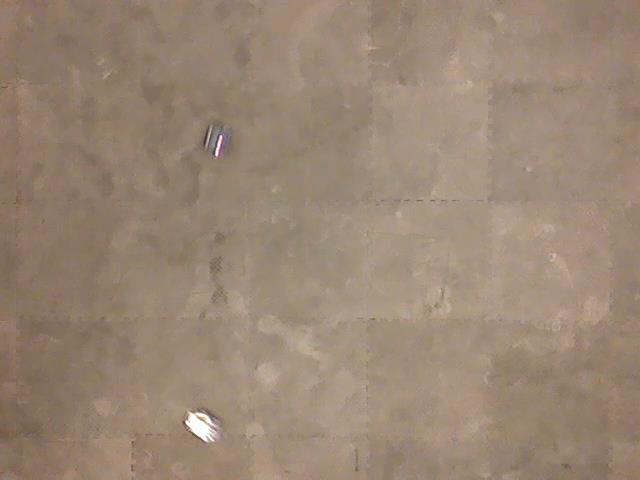Agent: (180, 405, 223, 446), (200, 121, 233, 160)
